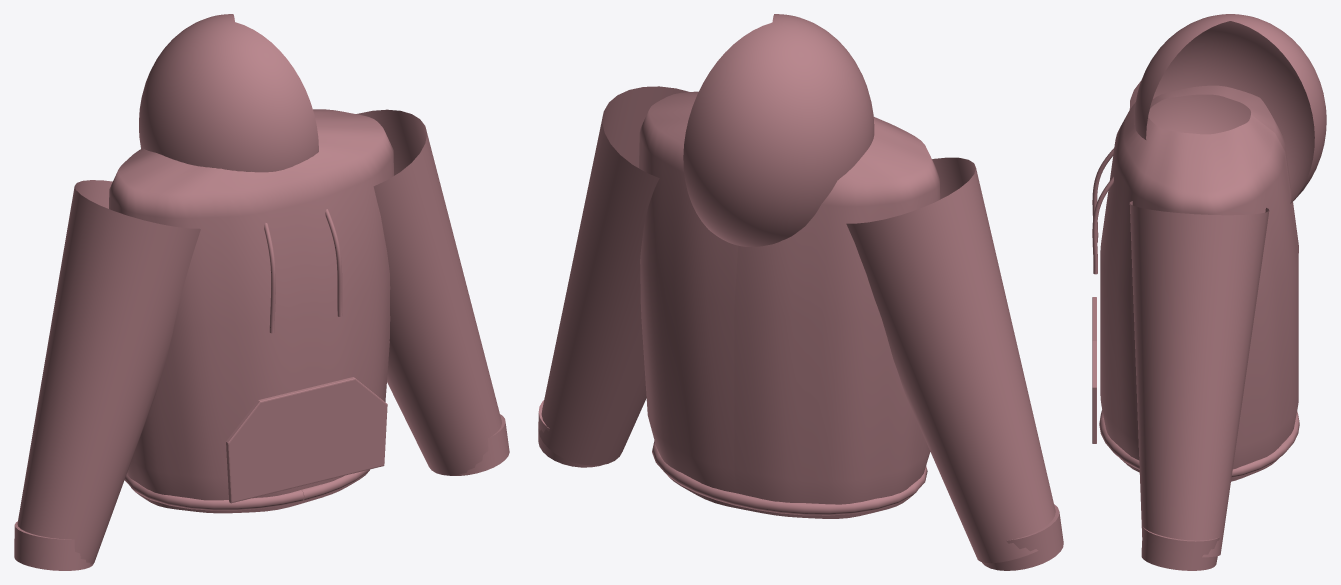
File: hoodie-rose-femme.glb
The picture shows the model from 3 angles, left to right: view 1: azimuth 30°, elevation 25°; view 2: azimuth 150°, elevation 25°; view 3: azimuth 270°, elevation 25°; orthographic projection. The views are drawn at different scales.
Visible parts, largest first — view 1: hoodie-rose, long-sleeve (×2); view 2: hoodie-rose, long-sleeve (×2); view 3: hoodie-rose, long-sleeve.
Part boxes in pixels (bbox=[...]): hoodie-rose: bbox=[14, 14, 509, 570]; long-sleeve (×2): bbox=[17, 109, 501, 564]; hoodie-rose: bbox=[538, 14, 1063, 570]; long-sleeve (×2): bbox=[538, 86, 1055, 563]; hoodie-rose: bbox=[1092, 14, 1326, 570]; long-sleeve: bbox=[1129, 201, 1269, 557].
Bounding box in the file's own units: 0.7702 × 0.7203 × 0.341.
